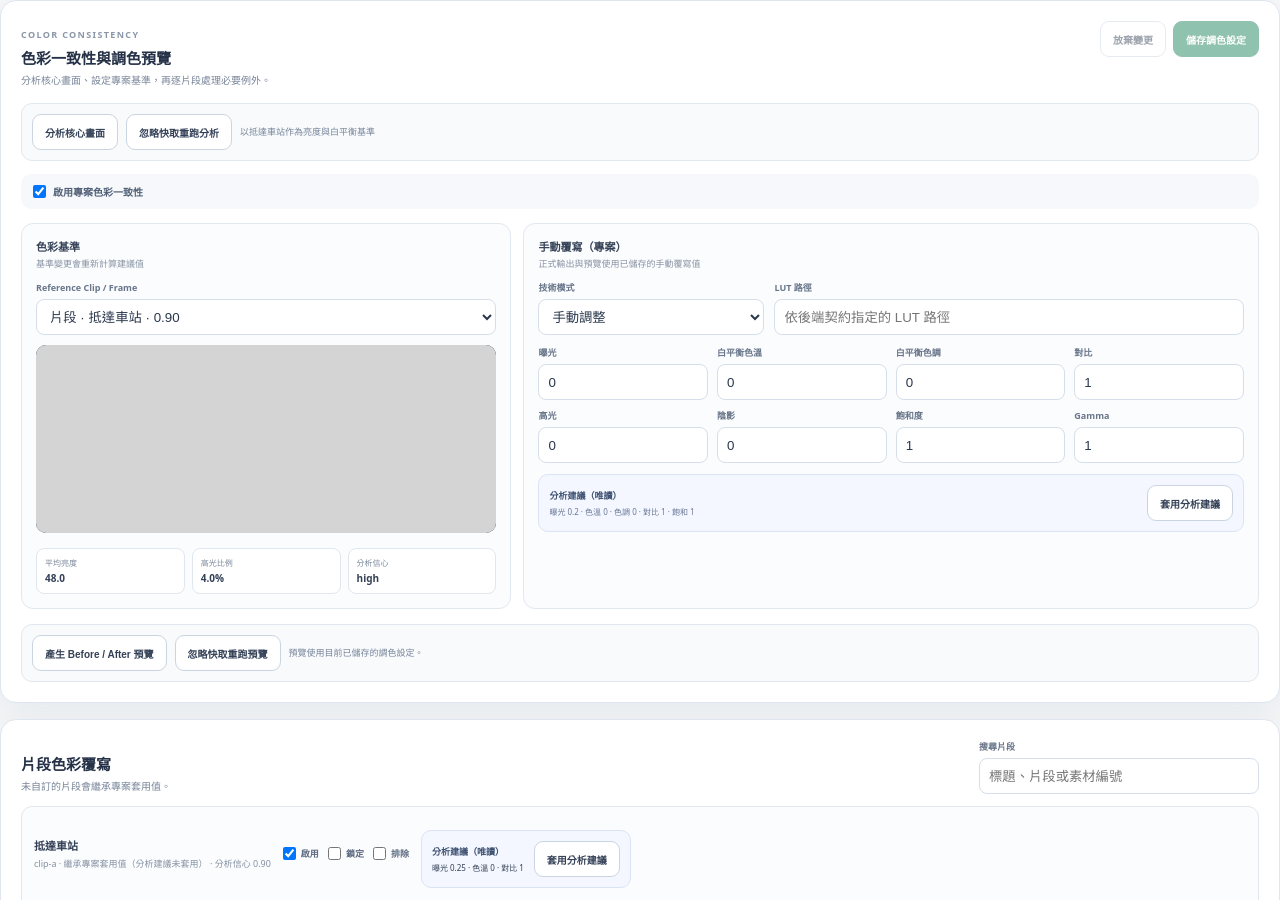
Scenario: ColorConsistencyWorkspace › reads LUT requirements from the backend contract
Select "camera_lut（需要 .cube LUT）" in the dropdown named "技術 LUT 模式": (651, 317) [538, 299, 764, 335]
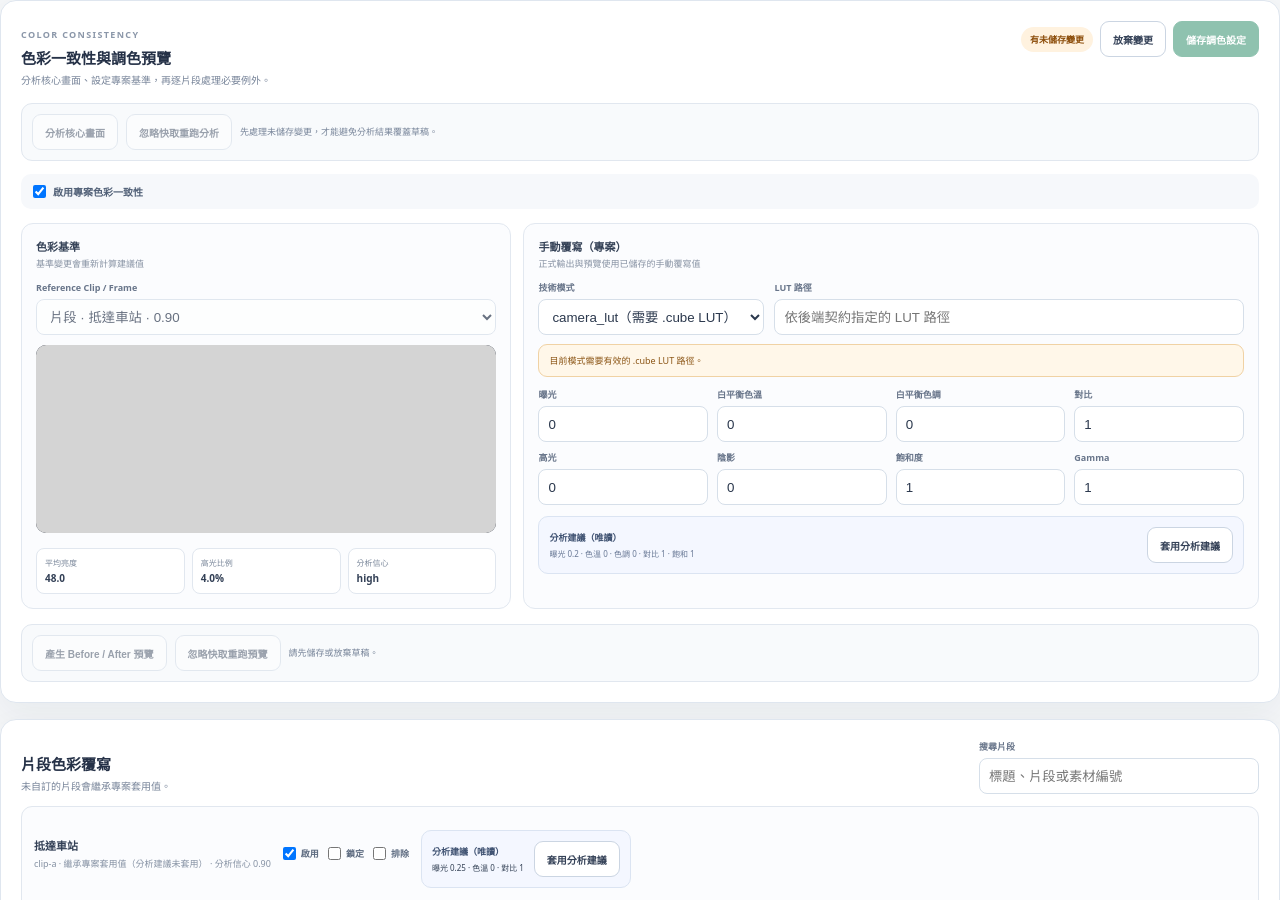
Expected: the button "儲存調色設定" is disabled, [1173, 21, 1259, 57]
Result: the text "目前模式需要有效的 .cube LUT 路徑。" is shown at [538, 344, 1244, 377]
In the field labelled "LUT 路徑": (1009, 317) [774, 299, 1244, 335], type "C:/LUTs/camera.cube"
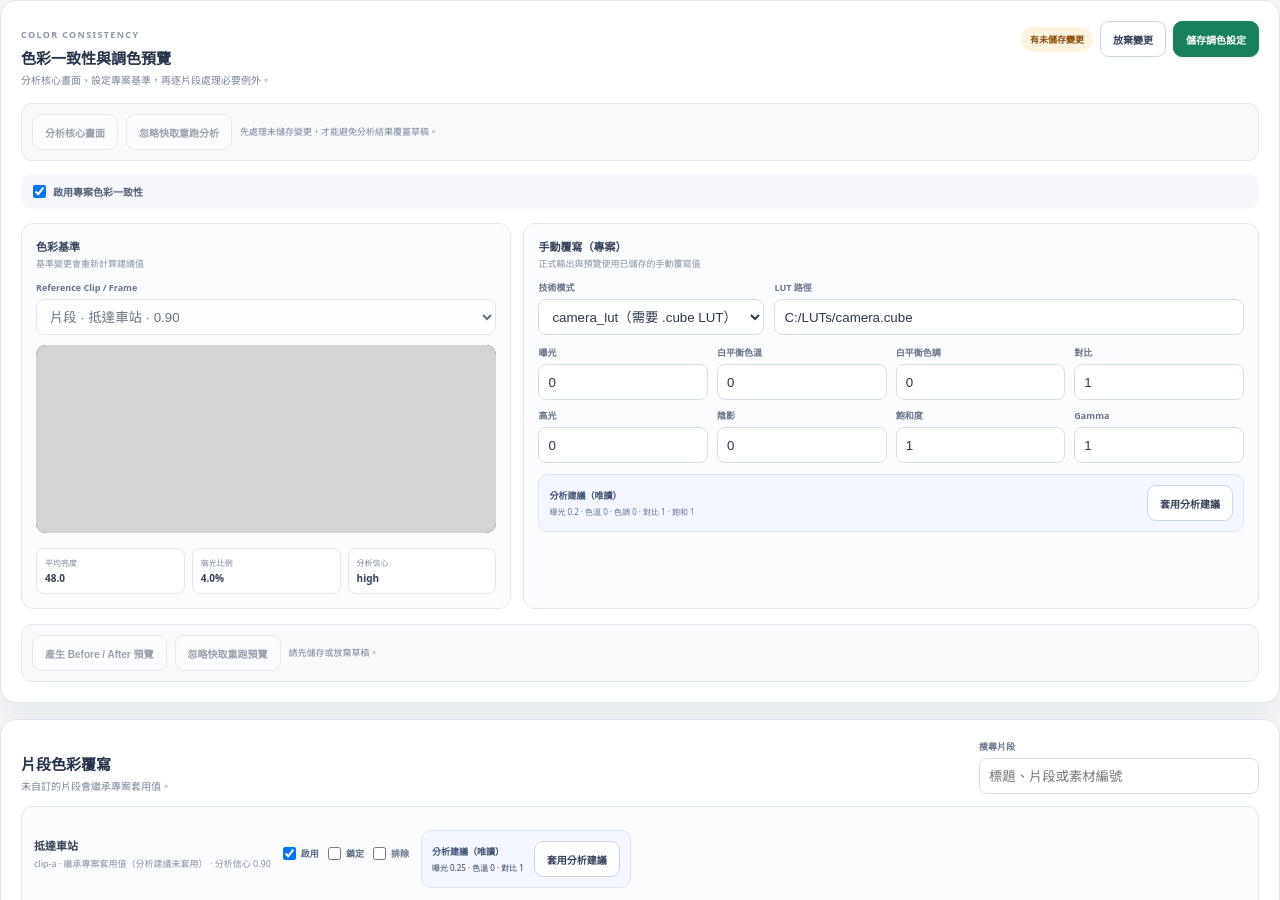
Result: the button "儲存調色設定" is enabled at [1173, 21, 1259, 57]
